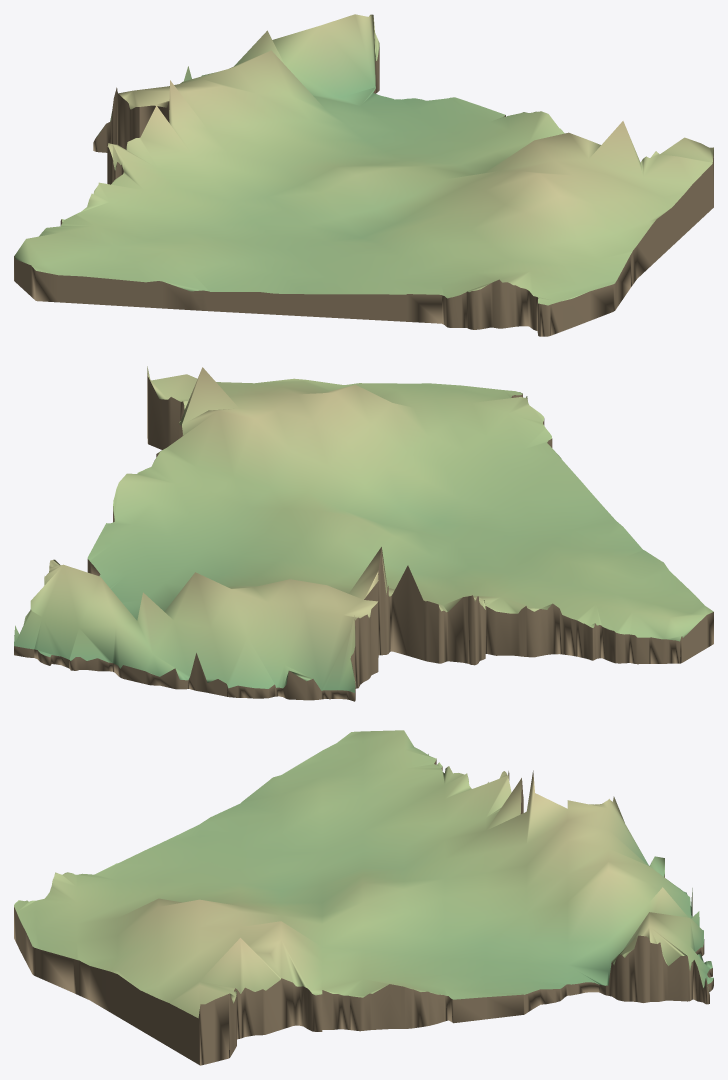
The model's file is DZA.glb.
The picture shows the model from 3 angles, top to bottom: view 1: azimuth 30°, elevation 25°; view 2: azimuth 150°, elevation 25°; view 3: azimuth 270°, elevation 25°; orthographic projection. The views are drawn at different scales.
Visible parts, largest first — view 1: DZA; view 2: DZA; view 3: DZA.
Boxes of the visible parts, x1,y1,x2,y2 form: DZA: [14, 14, 713, 336]; DZA: [14, 366, 713, 701]; DZA: [14, 730, 713, 1065].
Bounding box in the file's own units: 1.66 × 0.2674 × 1.62.
